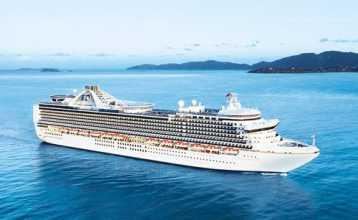youlun: (26, 80, 325, 178)
